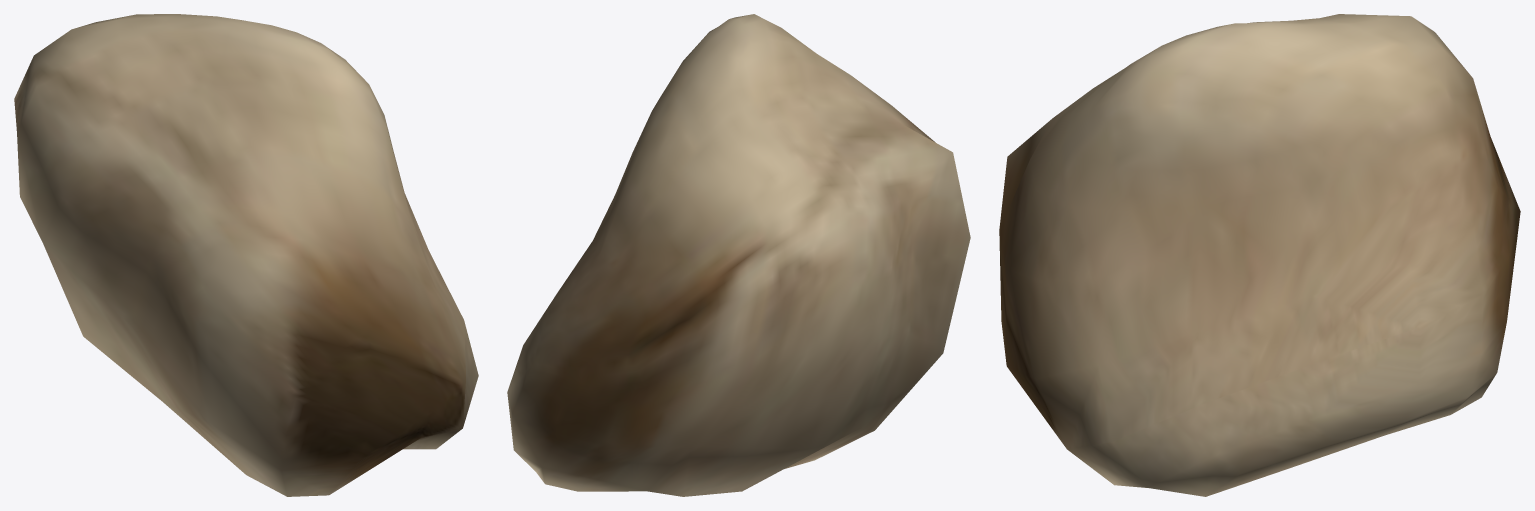
Rendered from Maxilary_Premolar1.glb.
The picture shows the model from 3 angles, left to right: view 1: azimuth 30°, elevation 25°; view 2: azimuth 150°, elevation 25°; view 3: azimuth 270°, elevation 25°; orthographic projection. The views are drawn at different scales.
Parts seen in each view (by area): view 1: Premolar7; view 2: Premolar7; view 3: Premolar7.
Part boxes in pixels (left/top/right/bottom): Premolar7: left=14, top=14, right=478, bottom=496; Premolar7: left=507, top=14, right=970, bottom=496; Premolar7: left=999, top=14, right=1520, bottom=496.
Bounding box in the file's own units: 0.0197 × 0.0236 × 0.0263.
Materials: 1 (1 with a texture image).
